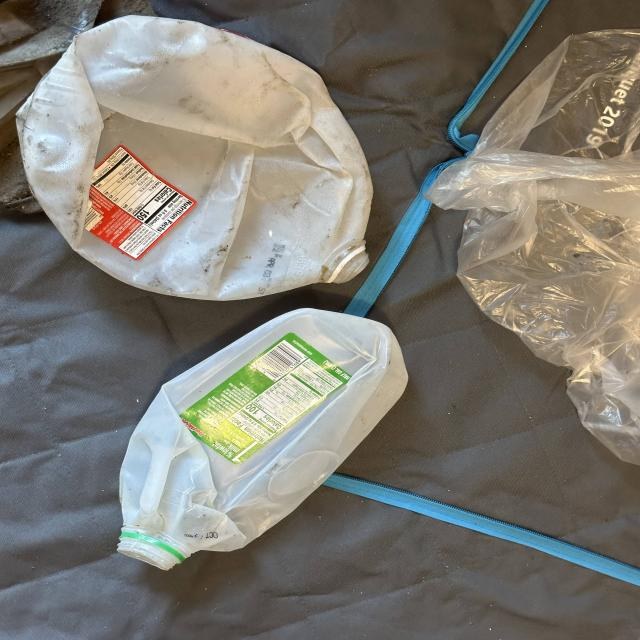milk-jug: (18, 18, 378, 287), (119, 310, 411, 577)
